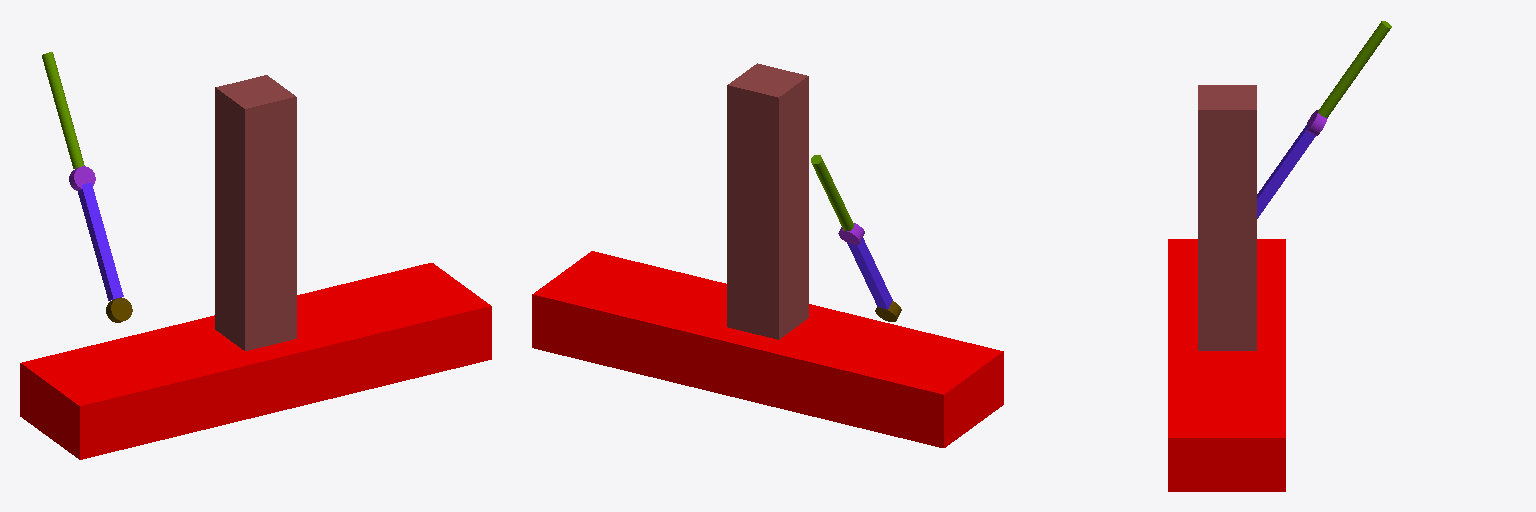
The robot description file, URDF, robot "pi_robot":
<?xml version="1.0"?>

<robot name="pi_robot">

	<!-- * * * Link Definitions * * * -->

 	<link name="base_link">
		<visual>
		    <origin xyz="0 0 0" rpy="0 0 0"/>
			<geometry>
				<box size="4 1 0.5"/>
			</geometry>
			<material name="Cyan1">
	       		<color rgba="1 0 0 1.0"/>
	     	</material>
		</visual>	
	</link>
	
 	<link name="ana_govde_link">
		<visual>
		    <origin xyz="0 0 0.75" rpy="0 0 0"/>
			<geometry>
				<box size="0.5 0.5 2.5"/>
			</geometry>
			<material name="Red">
	       		<color rgba="0.6 0.3 0.3 1.0"/>
	     	</material>
		</visual>	
	</link>
	
	 <link name="donme1_link">
		<visual>
		    <origin xyz="-1.25 0.25 0" rpy="0 0 0"/>
			<geometry>
				<cylinder radius="0.1" length="0.1"/>
			</geometry>
			<material name="Red">
	       		<color rgba="0.4 0.3 0 1.0"/>
	     	</material>
		</visual>	
	</link>
	
	
	<link name="alt_kol_link">
		<visual>
		    <origin xyz="0 0.85 0.65" rpy="0 1.57 1.57"/>
			<geometry>
				<box size="0.1 0.1 1"/>
			</geometry>
			<material name="Blue">
	       		<color rgba="0.4 0.2 1 1.0"/>
	     	</material>
		</visual>	
	</link>
	
	<link name="donme2_link">
		<visual>
		    <origin xyz="-0.05 1.4 0" rpy="0 0 0"/>
			<geometry>
				<cylinder radius="0.1" length="0.1"/>
			</geometry>
			<material name="Red">
	       		<color rgba="0.6 0.21 0.8 1.0"/>
	     	</material>
		</visual>	
	</link>
	

  	<link name="ust_kol_link">
		<visual>
			<origin xyz="0 2 -0.55" rpy="1.57 0 0"/>
			<geometry>
				<cylinder radius="0.05" length="1"/>
			</geometry>
	     	<material name="Green">
				<color rgba="0.4 0.6 0 0"/>
			</material>
	   </visual>
	</link>

	
	<!-- * * * Joint Definitions * * * -->
	
	<joint name="ana_govde_joint" type="prismatic">
    	<parent link="base_link"/>
    	<child link="ana_govde_link"/>
    	<origin xyz="0 0 0.5" rpy="0 0 0"/>
		<axis xyz="1 0 0"/>
		<limit lower="-3.1416" upper="3.1416" effort="10" velocity="3"/>
	</joint>
	
	<joint name="donme1_joint" type="revolute">
    	<parent link="ana_govde_link"/>
    	<child link="donme1_link"/>
    	<origin xyz="0 0 0" rpy="1 0 0"/>
		<axis xyz="0 0 0"/>
		<limit lower="-3.1416" upper="3.1416" effort="10" velocity="3"/>
	</joint>

	<joint name="alt_kol_joint" type="fixed">
    	<parent link="donme1_link"/>
    	<child link="alt_kol_link"/>
    	<origin xyz="-0.6 0 0" rpy="0 -1.57 0"/>	
	</joint>
	
	<joint name="donme2_joint" type="revolute">
    	<parent link="alt_kol_link"/>
    	<child link="donme2_link"/>
    	<origin xyz="0 0 0.6" rpy="0 1.57 0"/>
		<axis xyz="0 0 1"/>
		<limit lower="-3.1416" upper="3.1416" effort="10" velocity="3"/>
	</joint>

	<joint name="ust_kol_joint" type="fixed">
    	<parent link="donme2_link"/>
    	<child link="ust_kol_link"/>
    	<origin xyz="-0.6 0 0" rpy="0 -1.57 0"/>
	</joint>
	

	
	<!-- * * * Joint Definitions * * * 
	<joint name="ana_govde_joint" type="revolute">
    	<parent link="base_link"/>
    	<child link="ana_govde_link"/>
    	<origin xyz="0 0 0.5" rpy="0 0 0"/>
		<axis xyz="0 0 1"/>
		<limit lower="-3.1416" upper="3.1416" effort="10" velocity="3"/>
	</joint>
	
	<joint name="alt_kol_joint" type="revolute">
    	<parent link="ana_govde_link"/>
    	<child link="alt_kol_link"/>
    	<origin xyz="0 0 0" rpy="0 0 0"/>	
		<axis xyz="0 0 1"/>
		<limit lower="-3.1416" upper="3.1416" effort="10" velocity="3"/>
	</joint>

	<joint name="ust_kol_joint" type="revolute">
    	<parent link="alt_kol_link"/>
    	<child link="ust_kol_link"/>
    	<origin xyz="0 0 0" rpy="0 0 0"/>
		<axis xyz="0 0 1"/>
		<limit lower="-3.1416" upper="3.1416" effort="10" velocity="3"/>
	</joint>
	
	-->

</robot>

--- Facts derived from the render (not from the file) ---
The picture shows the robot from 3 angles, left to right: view 1: azimuth 30°, elevation 25°; view 2: azimuth 150°, elevation 25°; view 3: azimuth 270°, elevation 25°; orthographic projection.
Model pi_robot with 6 links and 5 joints (2 revolute, 1 prismatic, 2 fixed), rooted at base_link, posed every joint at zero.
Visible links, largest first — view 1: base_link, ana_govde_link, alt_kol_link, ust_kol_link; view 2: base_link, ana_govde_link, alt_kol_link, ust_kol_link; view 3: base_link, ana_govde_link, ust_kol_link, alt_kol_link.
Link boxes in pixels (x1,y1,x2,y2): base_link: [20, 263, 491, 459]; ana_govde_link: [215, 75, 296, 350]; alt_kol_link: [78, 182, 123, 300]; ust_kol_link: [42, 52, 84, 168]; base_link: [532, 251, 1003, 447]; ana_govde_link: [727, 63, 808, 339]; alt_kol_link: [847, 238, 892, 309]; ust_kol_link: [811, 155, 853, 230]; base_link: [1168, 239, 1285, 491]; ana_govde_link: [1198, 85, 1256, 350]; ust_kol_link: [1318, 21, 1391, 117]; alt_kol_link: [1257, 123, 1315, 218].
Size in the robot's own frame: 4 by 1.89 by 2.88 metres.
Geometry: primitives only (box / cylinder / sphere), no mesh files.
